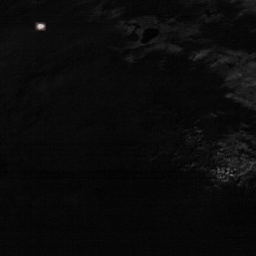Target: (34, 22, 45, 30)
